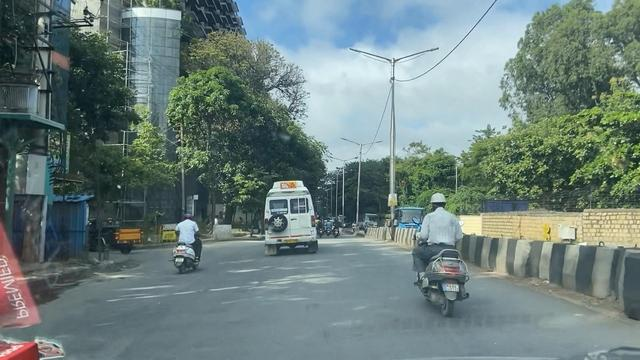HMV: (265, 178, 324, 259)
LMV: (409, 189, 470, 314), (164, 206, 206, 276)
